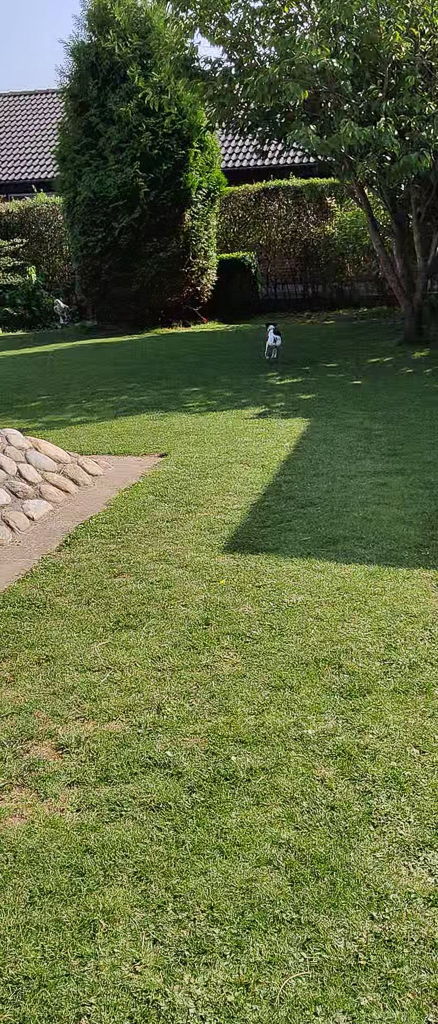Dog: (256, 318, 291, 366)
Eagle: (48, 293, 78, 333)
